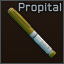Propital regenerative stimulant injector: (0, 0, 64, 64)
